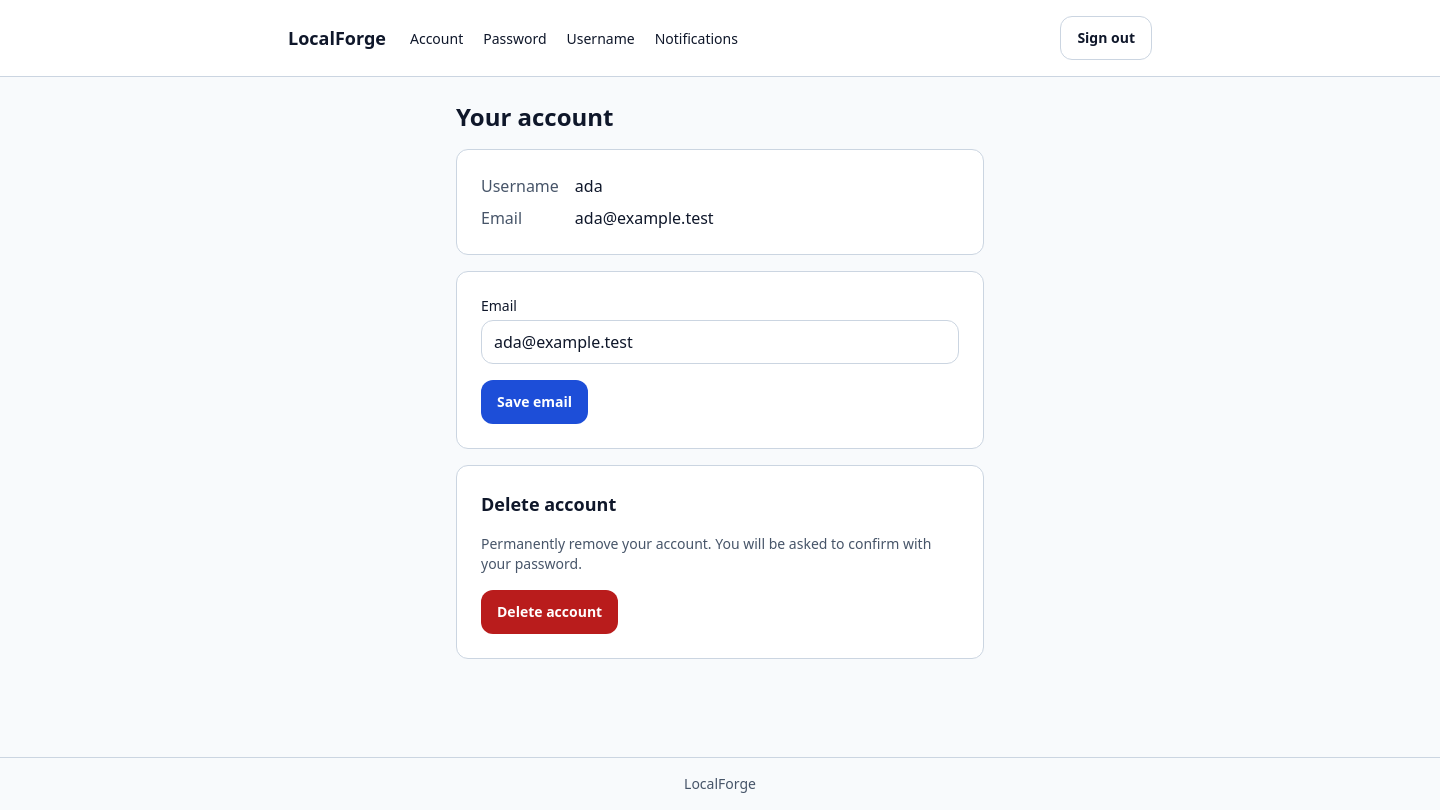
Test: editing the email › saves the address and updates the profile only after the backend accepts it
This screenshot has width=1440, height=810.
Replace the text in the field labelled "Email" with "grace@example.test" at (720, 342), box left=481, top=320, right=959, bottom=364
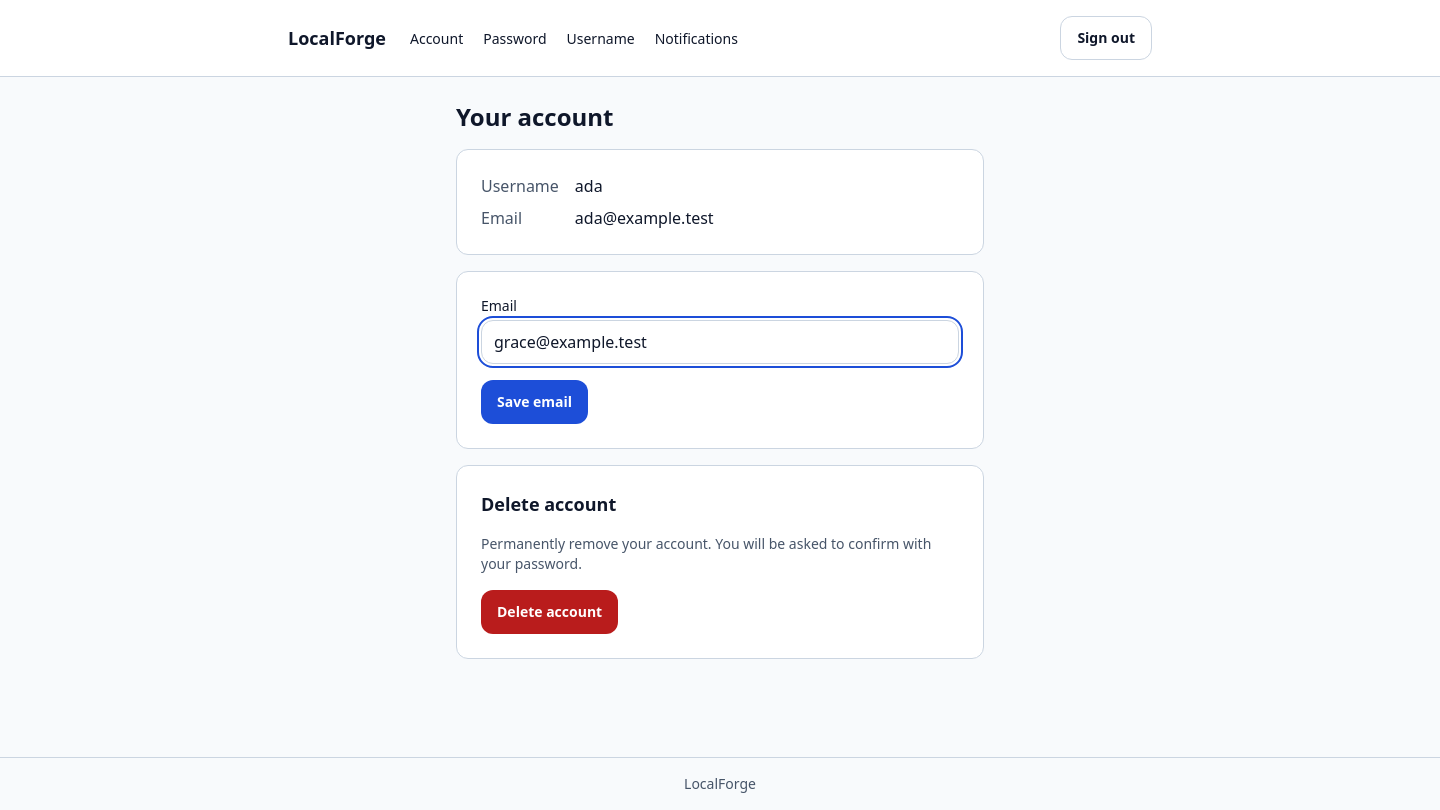
Click the button "Save email" at (535, 402), box left=481, top=380, right=588, bottom=424
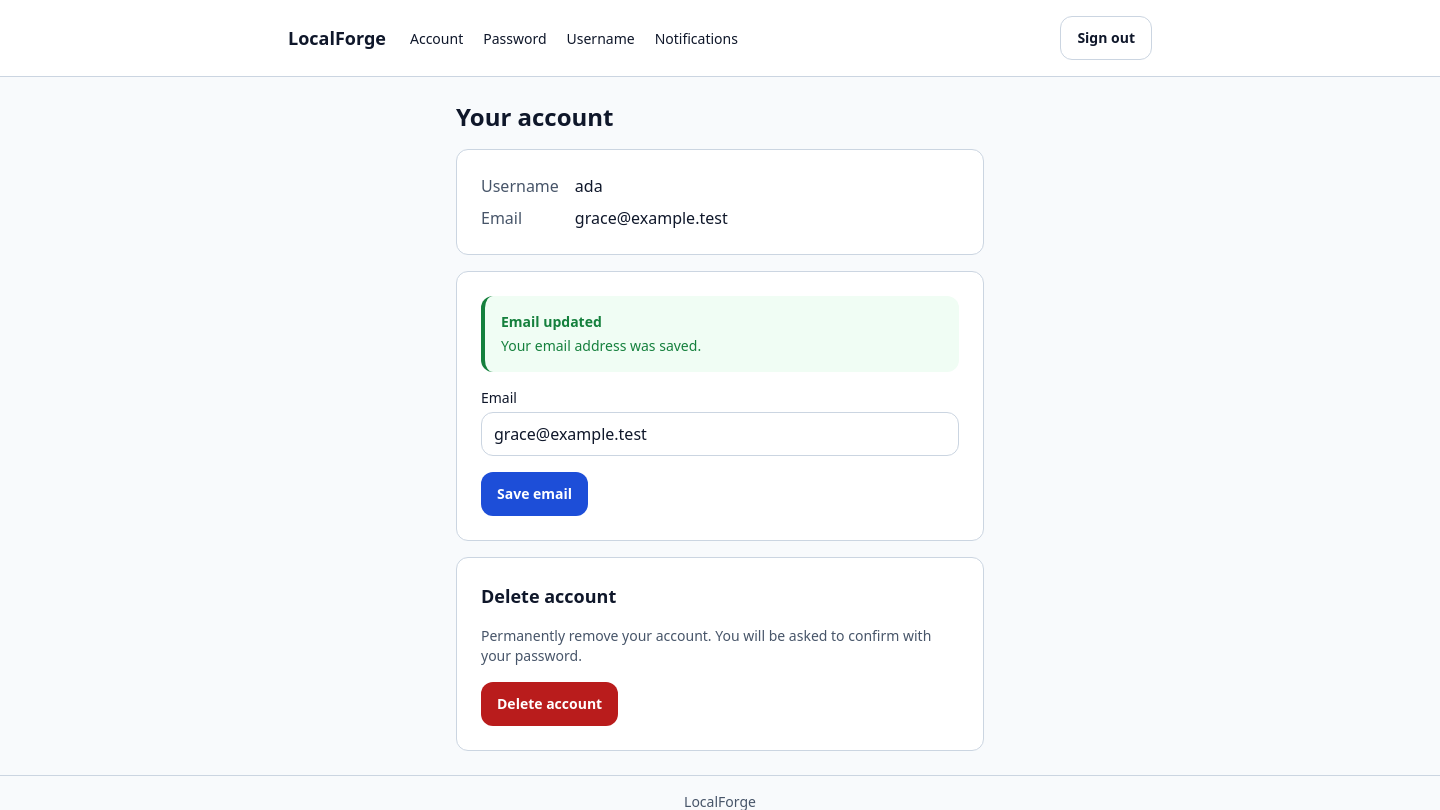
Now the text "Email updated" is shown, box left=501, top=312, right=602, bottom=331
Now the text "grace@example.test" is shown, box left=575, top=207, right=728, bottom=229
